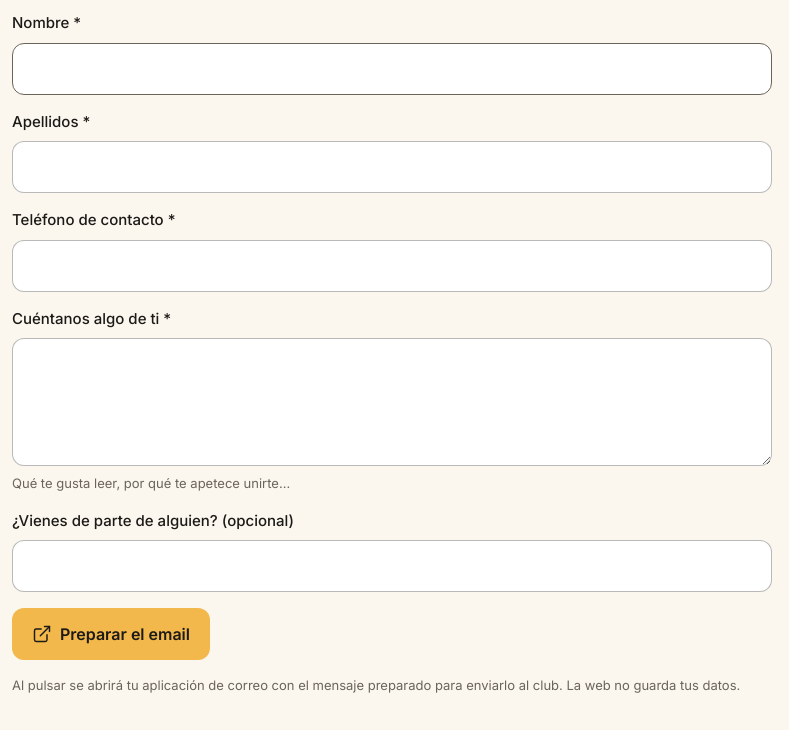
Scenario: JoinForm › con los datos completos abre el correo con la solicitud
This screenshot has width=789, height=730.
Type "Ana" into the field labelled "Nombre *" at (392, 68), box x1=12 y1=42 x2=772 y2=94
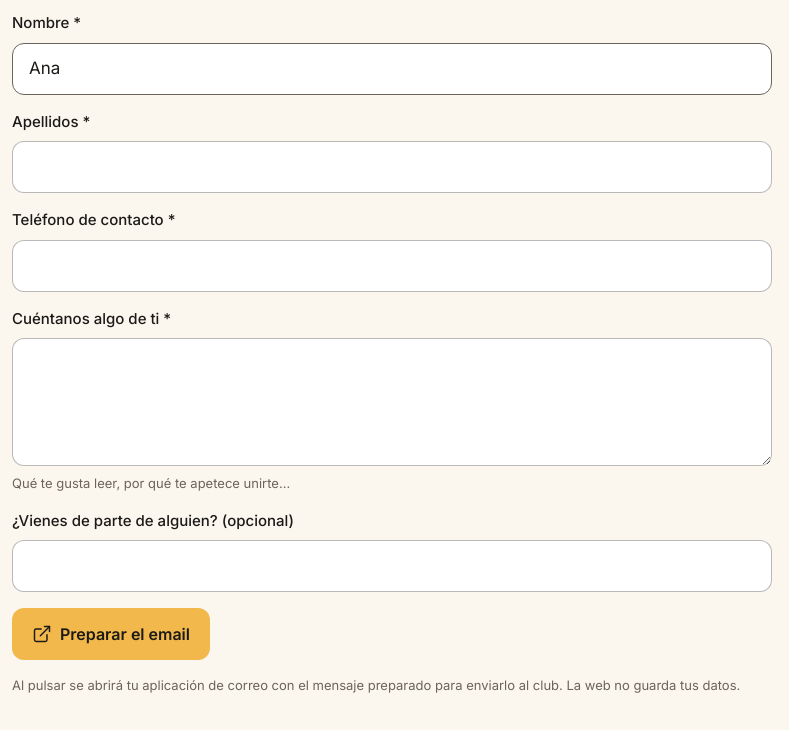
Type "García" into the field labelled "Apellidos *" at (392, 167), box x1=12 y1=141 x2=772 y2=193
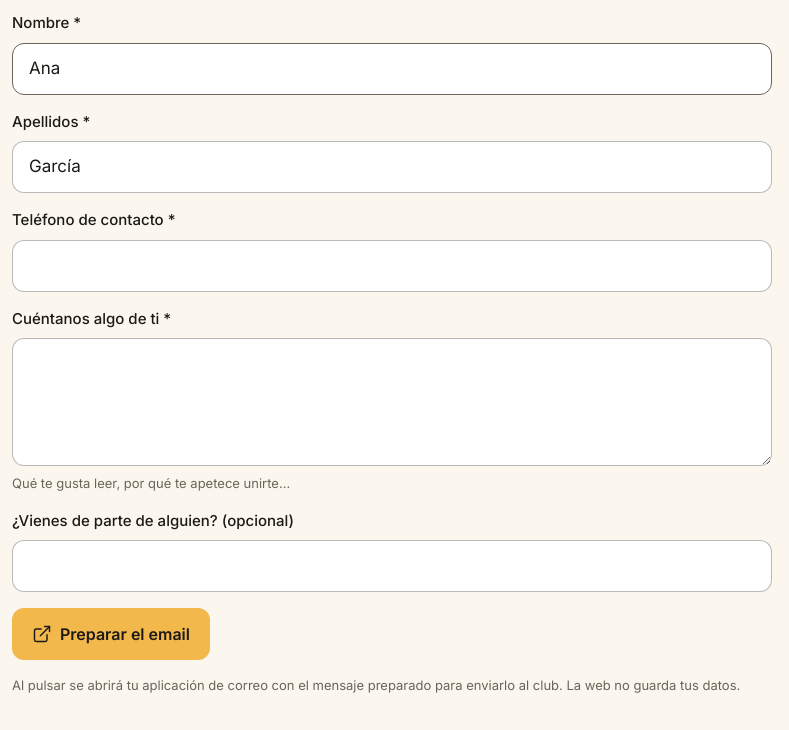
Type "600123456" into the field labelled "Teléfono de contacto *" at (392, 266), box x1=12 y1=240 x2=772 y2=292
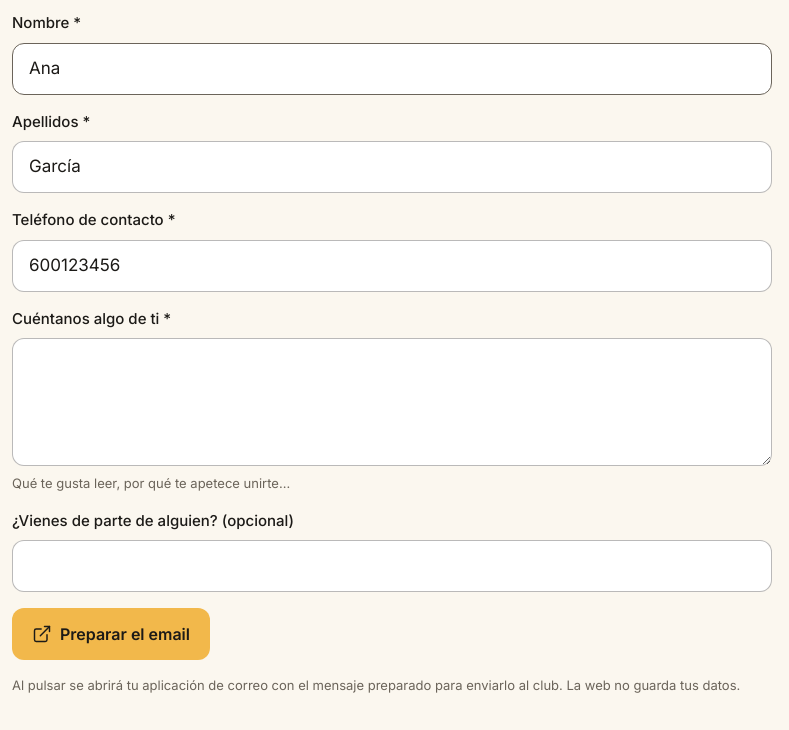
Type "Leo de todo." into the text box labelled "Cuéntanos algo de ti *" at (392, 402), box x1=12 y1=338 x2=772 y2=466
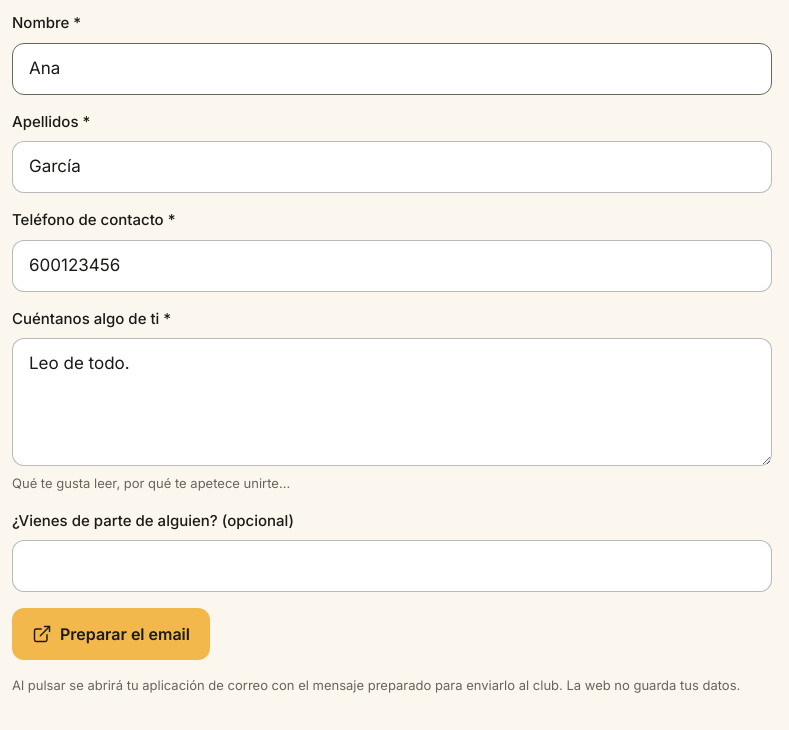
Type "Inés" into the field labelled "¿Vienes de parte de alguien? (opcional)" at (392, 566), box x1=12 y1=540 x2=772 y2=592
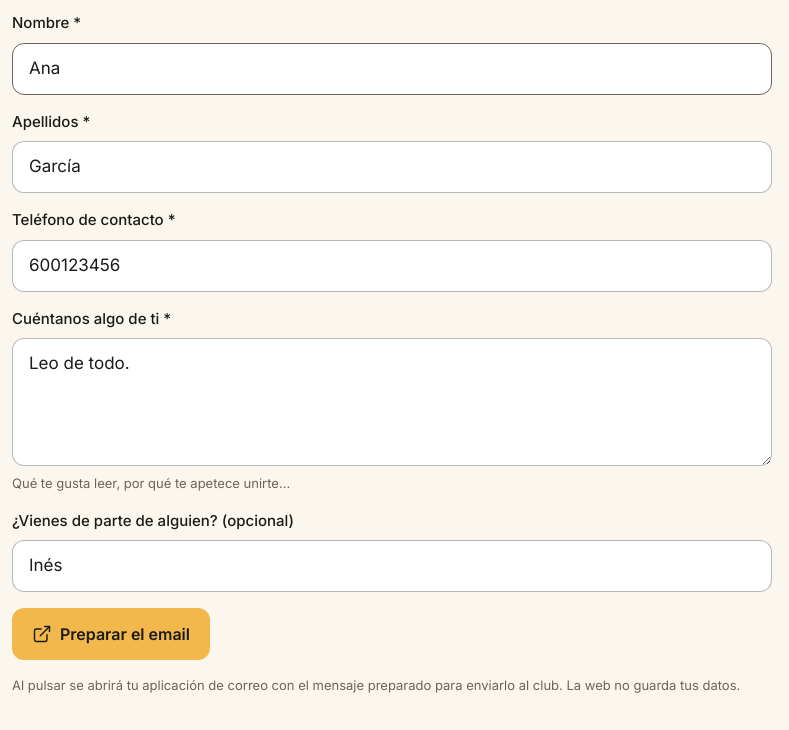
Click the button "Preparar el email" at (111, 634), box x1=12 y1=608 x2=210 y2=660
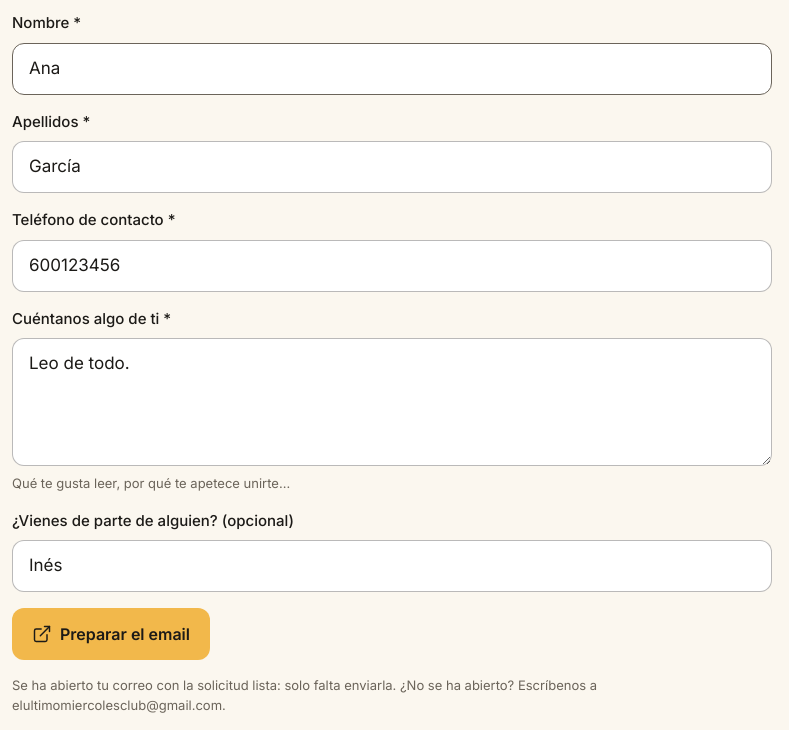
expect the message shows "solo falta enviarla": met, box x1=12 y1=677 x2=597 y2=712
